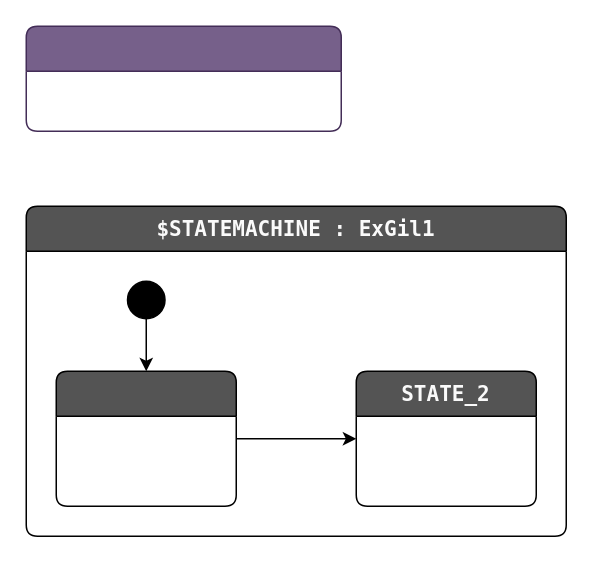
The diagram is 593 pixels wide and 563 high, and some of its shapes have lost their labels. The shapes that lost their labels are listed below. From the top down, each one's box as (x1, y1, x2, y2) in pixels, then its label:
(25, 25, 341, 131): $RenderConfig
(55, 370, 236, 506): STATE_1
